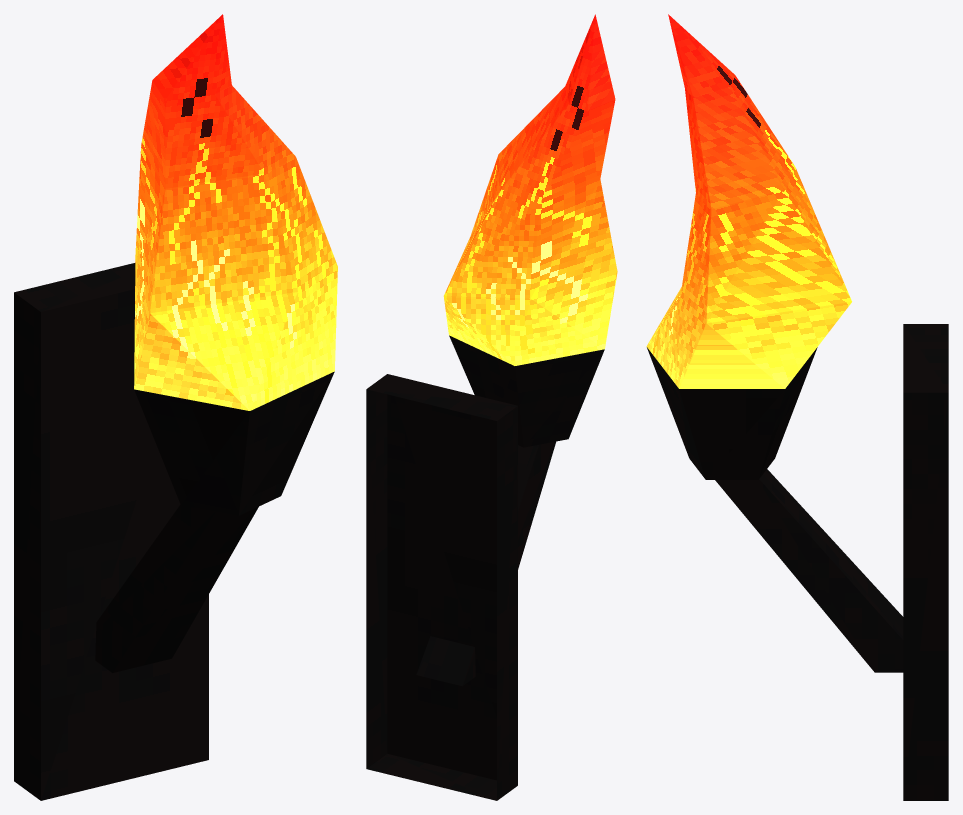
File: torch.glb
3 views of the same model, side by side, from view 1: azimuth 30°, elevation 25°; view 2: azimuth 150°, elevation 25°; view 3: azimuth 270°, elevation 25° (orthographic). The views are drawn at different scales.
Parts seen in each view (by area): view 1: Torch; view 2: Torch; view 3: Torch.
Part boxes in pixels (bbox=[...]): Torch: bbox=[14, 14, 337, 800]; Torch: bbox=[366, 14, 617, 800]; Torch: bbox=[646, 14, 948, 800].
Bounding box in the file's own units: 0.202 × 0.9 × 0.3351.
Materials: 1 (1 with a texture image).
